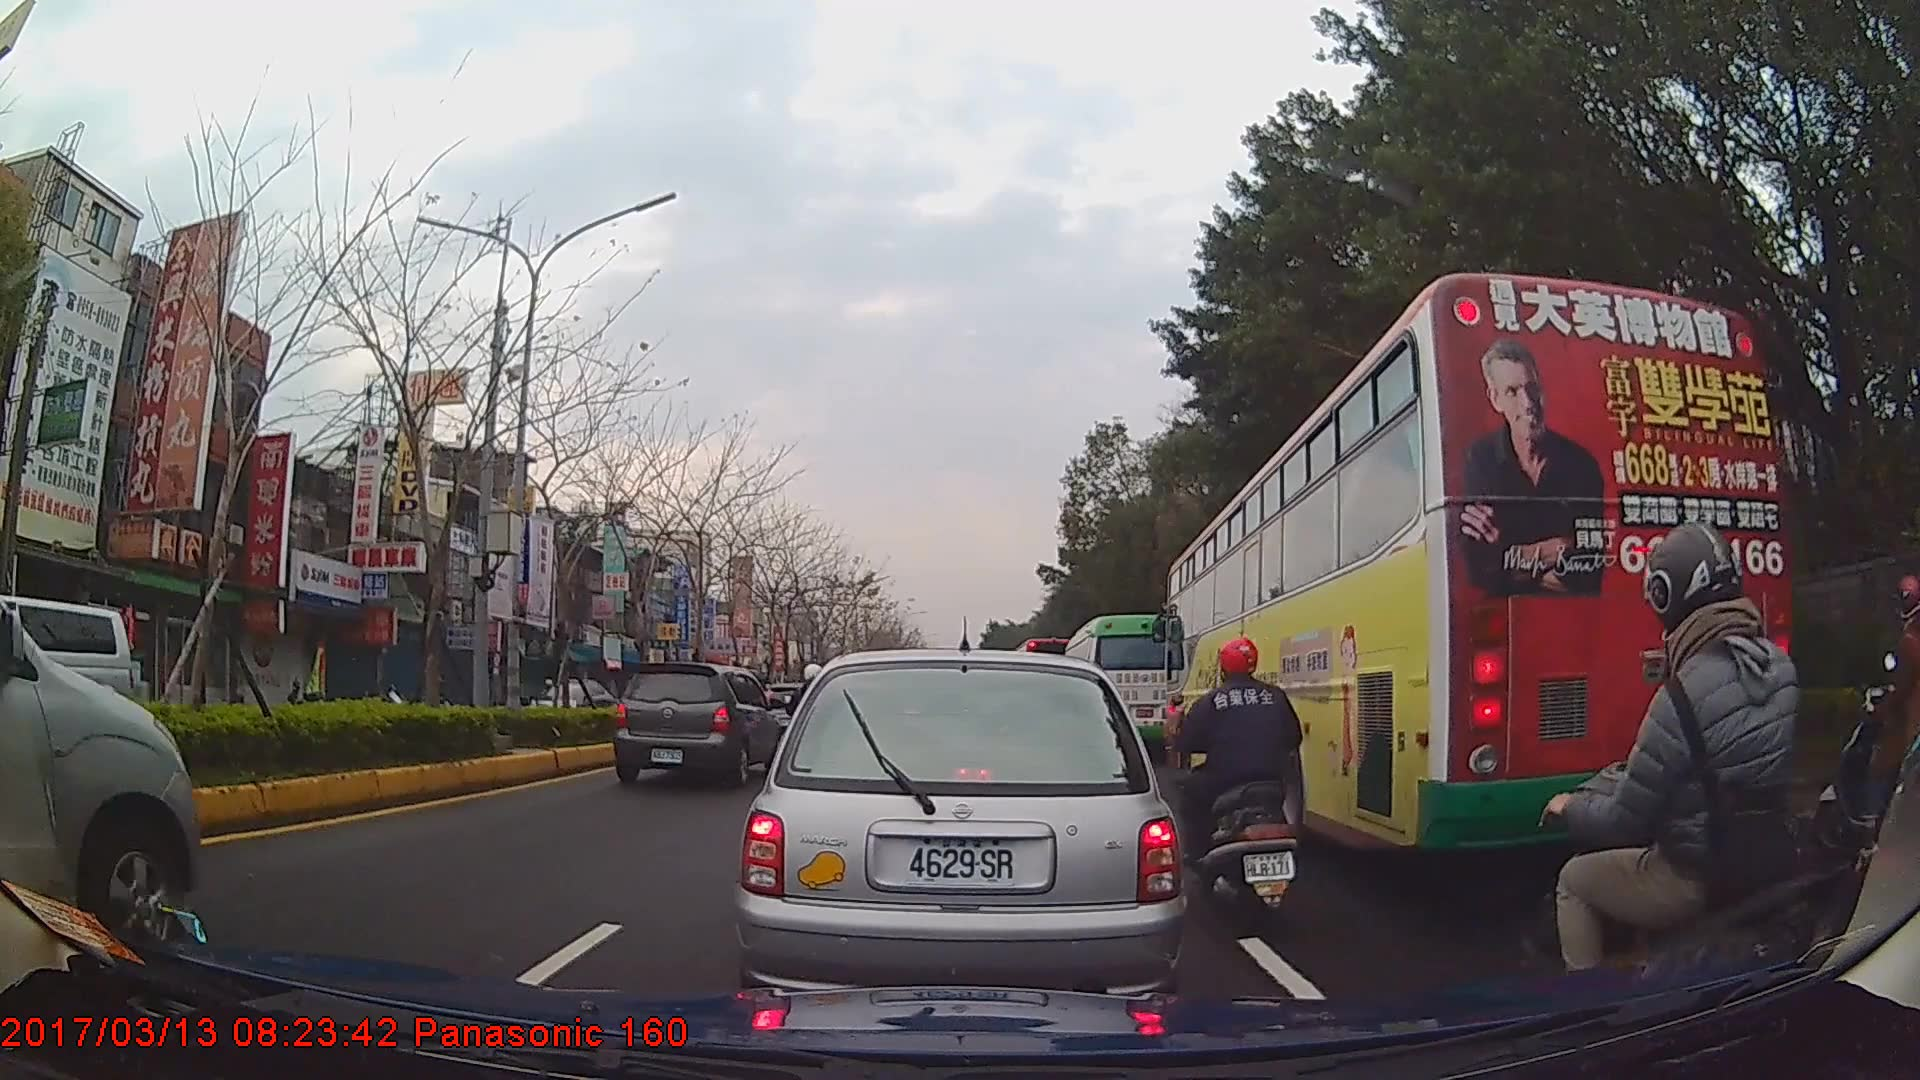rider: (1536, 521, 1828, 1048), (1166, 633, 1309, 934), (1815, 575, 1920, 881)
vehicle: (1159, 270, 1786, 873), (733, 649, 1187, 1021), (0, 593, 132, 763), (611, 663, 782, 786), (1059, 612, 1186, 763), (519, 673, 618, 729)
